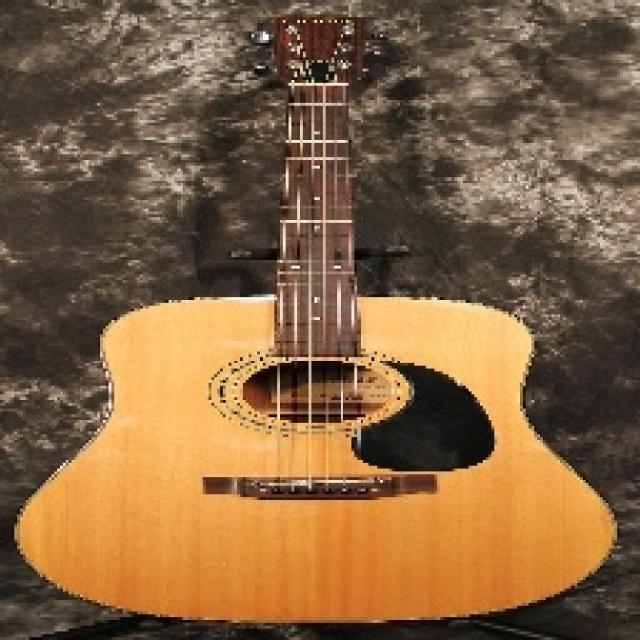guitar: (12, 16, 620, 624)
